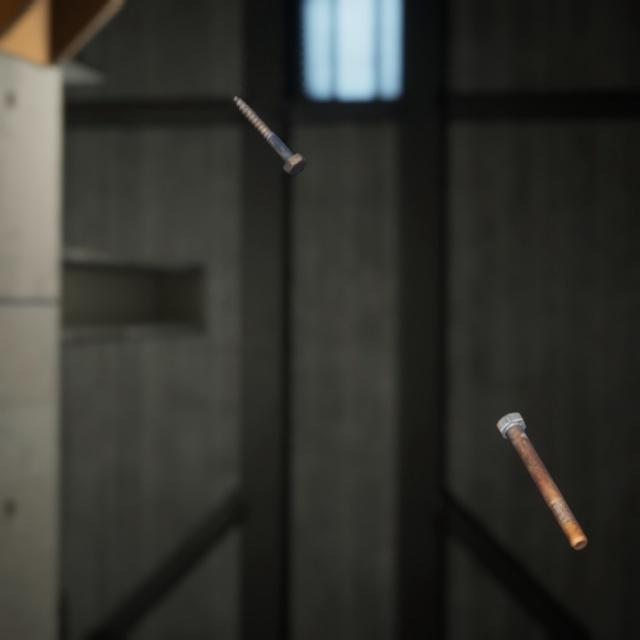bolt: (491, 387, 591, 532), (229, 78, 311, 167)
